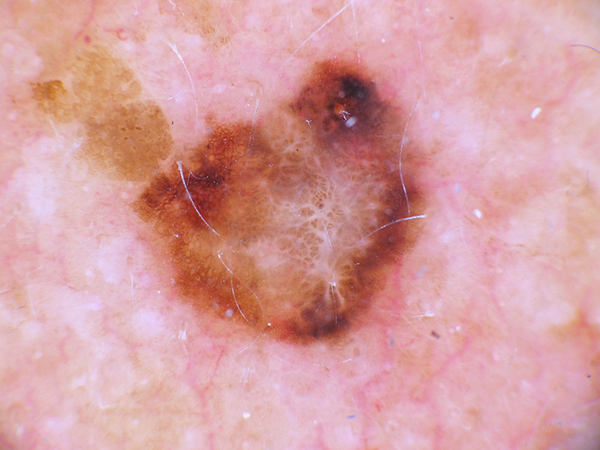Detected Lesion: (119, 50, 430, 348)
